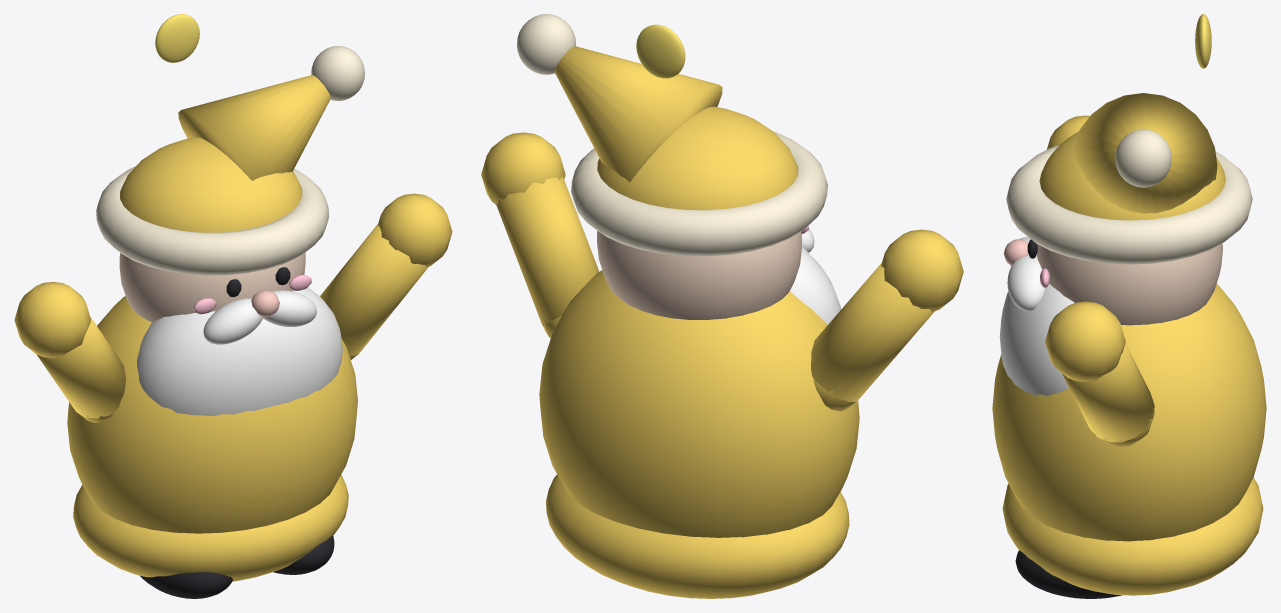
File: golden.glb
3 renders of one model, left to right at view 1: azimuth 30°, elevation 25°; view 2: azimuth 150°, elevation 25°; view 3: azimuth 270°, elevation 25°, orthographic. The views are drawn at different scales.
Parts seen in each view (by area): view 1: golden_gold, golden_white, golden_cream, golden_skin, golden_black, golden_yellow, golden_nose, golden_pink; view 2: golden_gold, golden_cream, golden_skin, golden_white, golden_yellow; view 3: golden_gold, golden_cream, golden_skin, golden_white, golden_black, golden_yellow, golden_nose.
Part boxes in pixels (x1=…): golden_gold: x1=14, y1=75, x2=452, y2=581; golden_white: x1=137, y1=287, x2=342, y2=415; golden_cream: x1=96, y1=46, x2=364, y2=275; golden_skin: x1=119, y1=252, x2=305, y2=322; golden_black: x1=140, y1=267, x2=334, y2=598; golden_yellow: x1=155, y1=14, x2=199, y2=62; golden_nose: x1=251, y1=290, x2=279, y2=317; golden_pink: x1=193, y1=275, x2=311, y2=314; golden_gold: x1=481, y1=46, x2=963, y2=598; golden_cream: x1=517, y1=14, x2=827, y2=256; golden_skin: x1=597, y1=231, x2=801, y2=319; golden_white: x1=790, y1=228, x2=840, y2=324; golden_yellow: x1=636, y1=24, x2=685, y2=78; golden_gold: x1=992, y1=93, x2=1266, y2=595; golden_cream: x1=1006, y1=129, x2=1252, y2=264; golden_skin: x1=1036, y1=243, x2=1222, y2=325; golden_white: x1=999, y1=237, x2=1074, y2=395; golden_black: x1=1015, y1=239, x2=1121, y2=598; golden_yellow: x1=1195, y1=14, x2=1211, y2=68; golden_nose: x1=1003, y1=239, x2=1028, y2=265.
Size of the model in its own units: 2.96 by 3.46 by 1.56.
